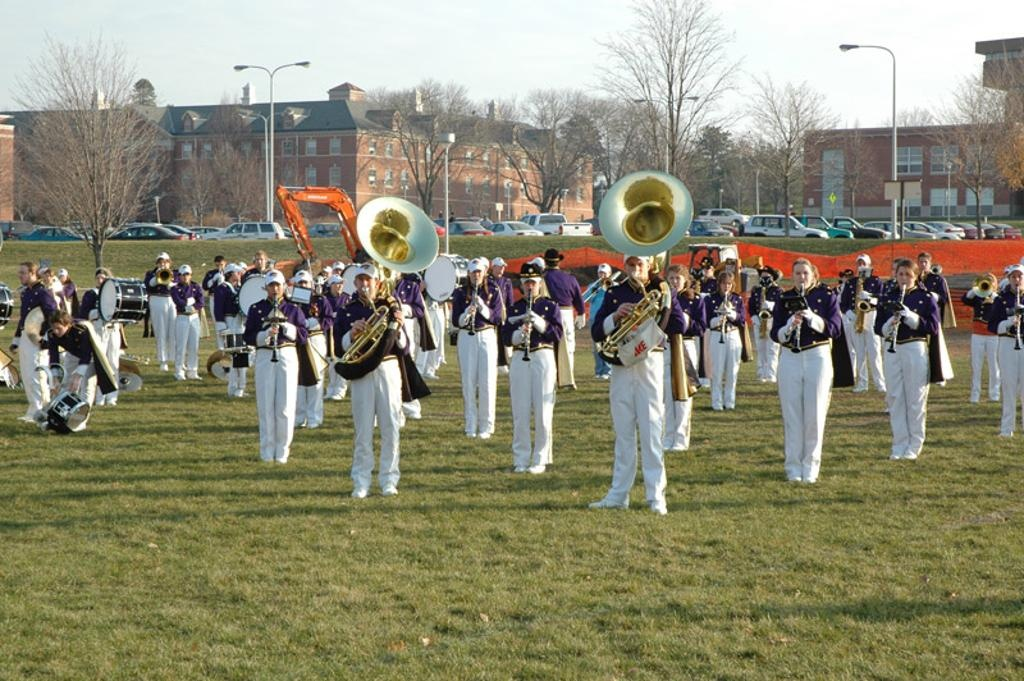human_face: (625, 256, 647, 282), (792, 263, 810, 289), (356, 272, 374, 296), (896, 266, 912, 290), (666, 270, 684, 290), (522, 276, 538, 296), (266, 278, 282, 298), (1008, 271, 1024, 291), (469, 266, 483, 284), (19, 265, 31, 285), (52, 321, 64, 337), (297, 277, 309, 293), (720, 278, 732, 294), (857, 257, 869, 273), (890, 262, 902, 278), (918, 256, 930, 270), (494, 260, 504, 274), (95, 272, 105, 286), (230, 266, 240, 280), (255, 254, 265, 268), (333, 280, 343, 294), (158, 258, 168, 270), (180, 270, 190, 282), (332, 266, 342, 278), (598, 270, 608, 282), (216, 260, 224, 270), (58, 272, 64, 282), (322, 269, 328, 279)
